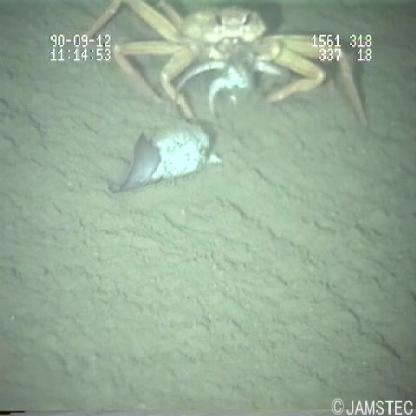Bio: (82, 1, 368, 197)
